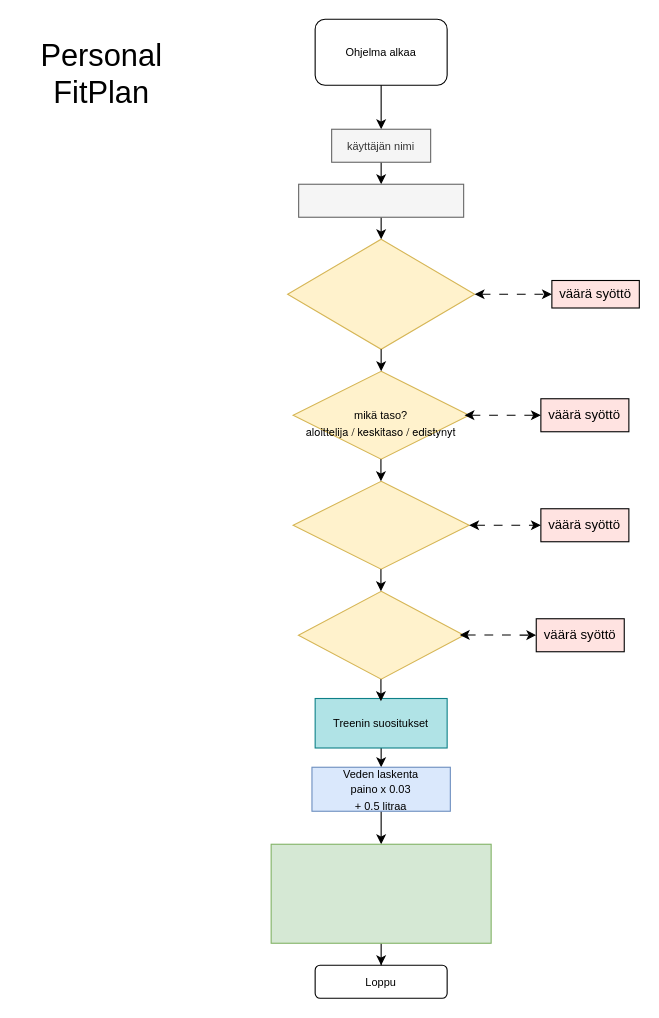
Image size: 659x1018. Some labels were removed from this diagram. Each missing label, with the centre of its shape:
"alkutervehdys nimen kanssa" belongs at (x=381, y=200).
"mieltymys kardio / voimaharjoittelu / venyttely" belongs at (x=380, y=524).
"Mikä on painosi" belongs at (x=380, y=634).
"Mikä tavoite? laihtua / kasvattaa massaa / pitää kunto kunnossa" belongs at (x=381, y=293).
"Tulos: Nimi Tavoite Taso Treeniohjelma Veden suositus" belongs at (x=380, y=893).
